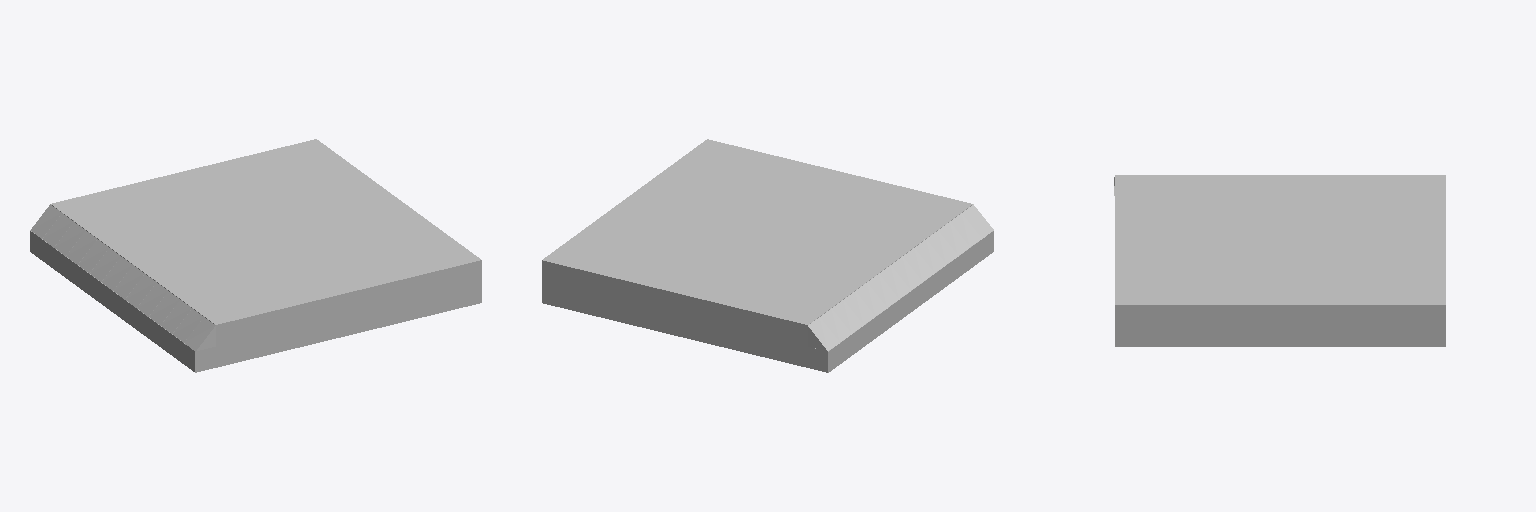
File: protoaraia.obj
3 renders of one model, left to right at view 1: azimuth 30°, elevation 25°; view 2: azimuth 150°, elevation 25°; view 3: azimuth 270°, elevation 25°, orthographic.
Visible parts, largest first — view 1: Cube; view 2: Cube; view 3: Cube.
Boxes of the visible parts, box(x1,y1,x2,y2) form: Cube: box(30, 139, 481, 372); Cube: box(542, 139, 993, 372); Cube: box(1114, 175, 1445, 346).
Bounding box in the file's own units: 0.8754 × 0.1251 × 0.8773.